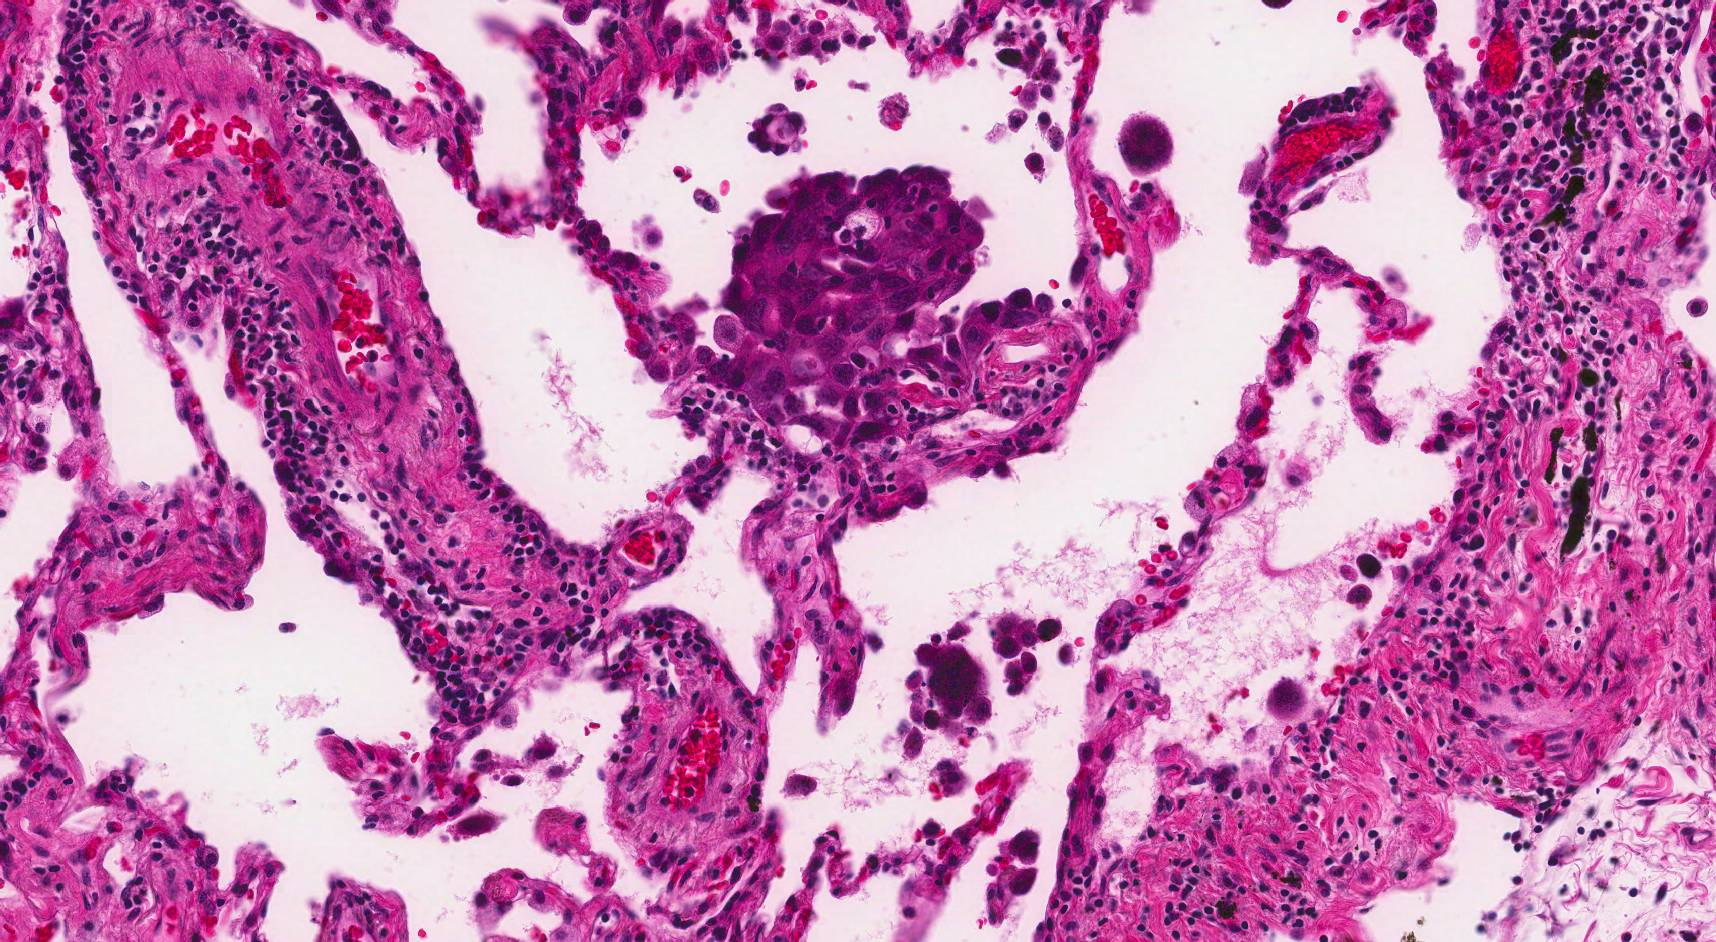stas: (701, 162, 1049, 449), (747, 101, 811, 158)
